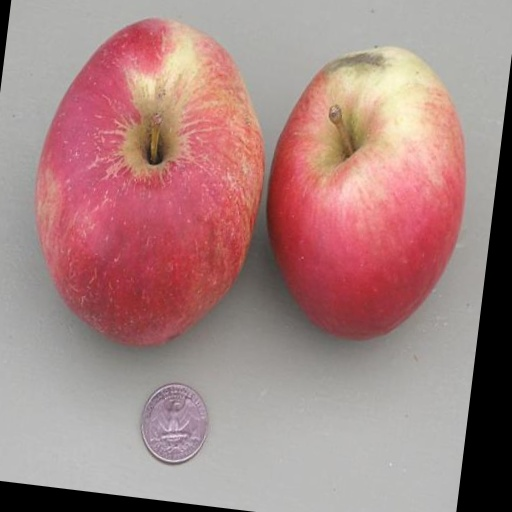fruit: (35, 19, 263, 345), (267, 47, 464, 338)
